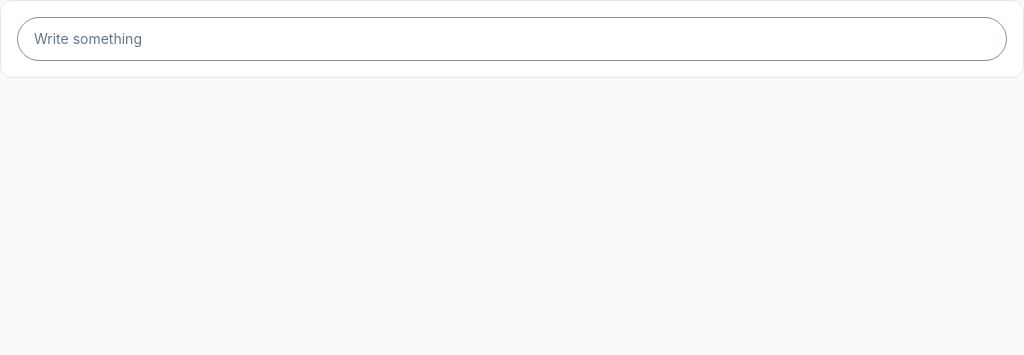
Scenario: PostComposer › asks before discarding content on Escape
The width and height of the screenshot is (1024, 355).
Press Enter in the button "Write something", box [17,17,1007,61]
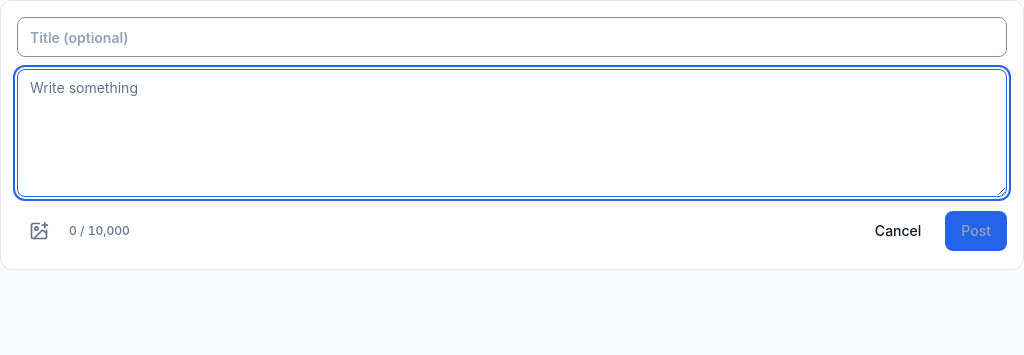
In the text box labelled "Write something": (512, 133) [17,69,1007,197], type "Draft"
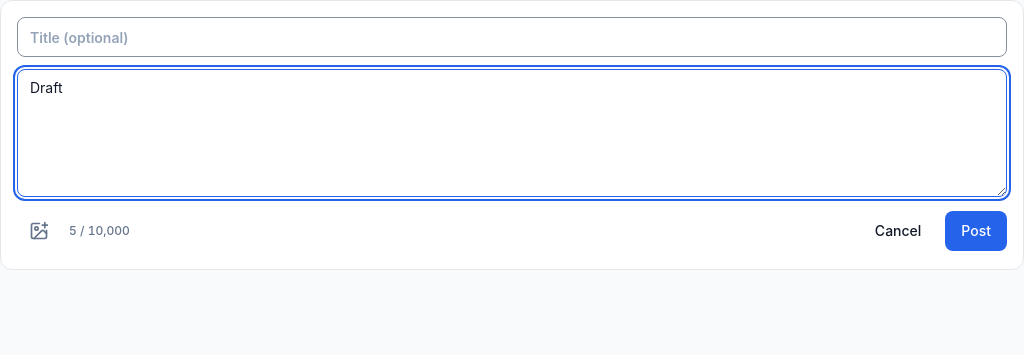
Press Escape in the text box named "Write something", box [17,69,1007,197]
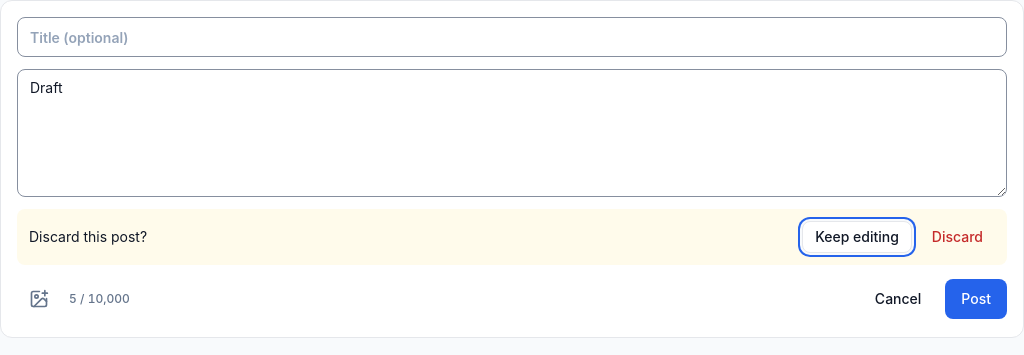
Check: the element "Discard this post?" is shown, box [17,209,1007,265]
Click the button "Discard": (957, 237) [920,221,995,253]
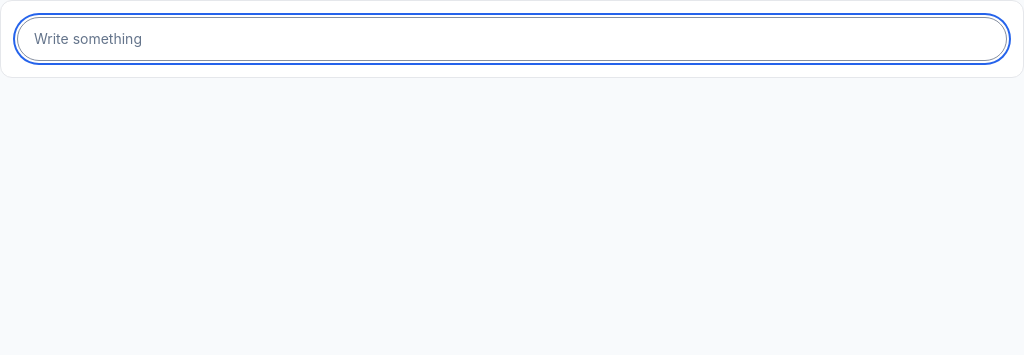
Check: the field is gone
